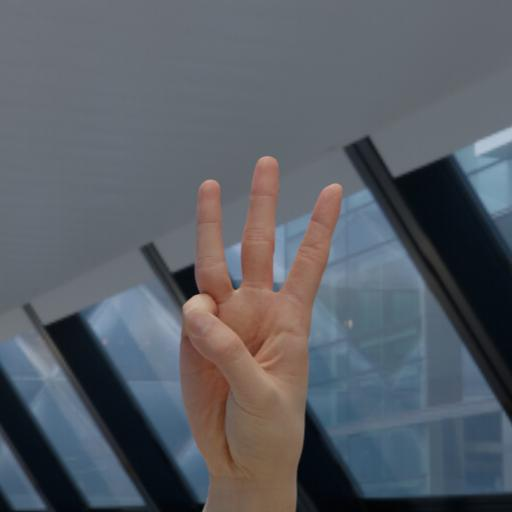W: (166, 146, 359, 482)
